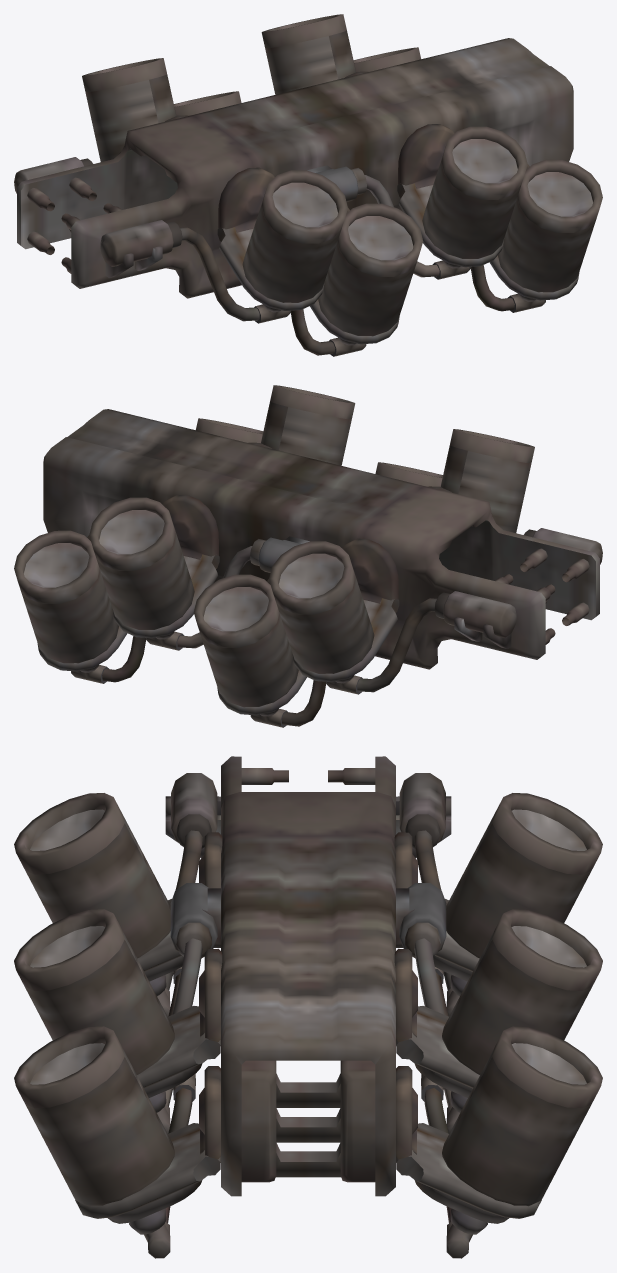
Rendered from HeavyWeapons_Vladof_Underbarrel_Mortar.obj.
3 renders of one model, top to bottom at view 1: azimuth 30°, elevation 25°; view 2: azimuth 150°, elevation 25°; view 3: azimuth 270°, elevation 25°, orthographic. The views are drawn at different scales.
Parts seen in each view (by area): view 1: Underbarrel_Mortar_base_main_SK_HW_VLA.221, Underbarrel_Mortar_launcher_7_base_top_SK_HW_VLA.256, Underbarrel_Mortar_launcher_5_base_top_SK_HW_VLA.258, Underbarrel_Mortar_launcher_8_base_top_SK_HW_VLA.255, Underbarrel_Mortar_launcher_6_base_top_SK_HW_VLA.257, Underbarrel_Mortar_launcher_4_base_top_SK_HW_VLA.253, Underbarrel_Mortar_launcher_2_base_top_SK_HW_VLA.249, Underbarrel_Mortar_launcher_5_mount_SK_HW_VLA.243, Underbarrel_Mortar_launcher_5_feed_source_SK_HW_VLA.220, Underbarrel_Mortar_launcher_7_mount_SK_HW_VLA.241, Underbarrel_Mortar_launcher_5_base_SK_HW_VLA.218, Underbarrel_Mortar_launcher_7_base_SK_HW_VLA.217 (+10 smaller); view 2: Underbarrel_Mortar_base_main_SK_HW_VLA.221, Underbarrel_Mortar_launcher_2_base_top_SK_HW_VLA.249, Underbarrel_Mortar_launcher_4_base_top_SK_HW_VLA.253, Underbarrel_Mortar_launcher_1_base_top_SK_HW_VLA.247, Underbarrel_Mortar_launcher_3_base_top_SK_HW_VLA.251, Underbarrel_Mortar_launcher_5_base_top_SK_HW_VLA.258, Underbarrel_Mortar_launcher_7_base_top_SK_HW_VLA.256, Underbarrel_Mortar_launcher_4_mount_SK_HW_VLA.236, Underbarrel_Mortar_launcher_4_feed_source_SK_HW_VLA.219, Underbarrel_Mortar_launcher_2_mount_SK_HW_VLA.231, Underbarrel_Mortar_launcher_4_base_SK_HW_VLA.214, Underbarrel_Mortar_launcher_2_base_SK_HW_VLA.213 (+10 smaller); view 3: Underbarrel_Mortar_base_main_SK_HW_VLA.221, Underbarrel_Mortar_launcher_1_base_top_SK_HW_VLA.247, Underbarrel_Mortar_launcher_8_base_top_SK_HW_VLA.255, Underbarrel_Mortar_launcher_2_base_top_SK_HW_VLA.249, Underbarrel_Mortar_launcher_7_base_top_SK_HW_VLA.256, Underbarrel_Mortar_launcher_4_base_top_SK_HW_VLA.253, Underbarrel_Mortar_launcher_5_base_top_SK_HW_VLA.258, Underbarrel_Mortar_base_inner_2_SK_HW_VLA.228, Underbarrel_Mortar_base_inner_1_SK_HW_VLA.239, Underbarrel_Mortar_launcher_1_base_SK_HW_VLA.212, Underbarrel_Mortar_launcher_8_base_SK_HW_VLA.216, Underbarrel_Mortar_launcher_2_feed_source_SK_HW_VLA.211 (+32 smaller).
Part boxes in pixels (x1,y1,x2,y2): Underbarrel_Mortar_base_main_SK_HW_VLA.221: (17, 38, 573, 298); Underbarrel_Mortar_launcher_7_base_top_SK_HW_VLA.256: (422, 126, 527, 258); Underbarrel_Mortar_launcher_5_base_top_SK_HW_VLA.258: (242, 170, 347, 302); Underbarrel_Mortar_launcher_8_base_top_SK_HW_VLA.255: (498, 159, 602, 292); Underbarrel_Mortar_launcher_6_base_top_SK_HW_VLA.257: (318, 203, 423, 336); Underbarrel_Mortar_launcher_4_base_top_SK_HW_VLA.253: (82, 58, 176, 161); Underbarrel_Mortar_launcher_2_base_top_SK_HW_VLA.249: (261, 14, 355, 94); Underbarrel_Mortar_launcher_5_mount_SK_HW_VLA.243: (218, 167, 274, 232); Underbarrel_Mortar_launcher_5_feed_source_SK_HW_VLA.220: (100, 220, 182, 266); Underbarrel_Mortar_launcher_7_mount_SK_HW_VLA.241: (398, 124, 454, 188); Underbarrel_Mortar_launcher_5_base_SK_HW_VLA.218: (217, 227, 324, 310); Underbarrel_Mortar_launcher_7_base_SK_HW_VLA.217: (397, 183, 504, 267); Underbarrel_Mortar_base_main_SK_HW_VLA.221: (43, 409, 599, 669); Underbarrel_Mortar_launcher_2_base_top_SK_HW_VLA.249: (89, 497, 194, 629); Underbarrel_Mortar_launcher_4_base_top_SK_HW_VLA.253: (269, 541, 374, 673); Underbarrel_Mortar_launcher_1_base_top_SK_HW_VLA.247: (14, 530, 118, 663); Underbarrel_Mortar_launcher_3_base_top_SK_HW_VLA.251: (193, 574, 298, 707); Underbarrel_Mortar_launcher_5_base_top_SK_HW_VLA.258: (440, 429, 534, 532); Underbarrel_Mortar_launcher_7_base_top_SK_HW_VLA.256: (261, 385, 355, 465); Underbarrel_Mortar_launcher_4_mount_SK_HW_VLA.236: (342, 538, 398, 603); Underbarrel_Mortar_launcher_4_feed_source_SK_HW_VLA.219: (434, 591, 516, 637); Underbarrel_Mortar_launcher_2_mount_SK_HW_VLA.231: (162, 495, 218, 559); Underbarrel_Mortar_launcher_4_base_SK_HW_VLA.214: (292, 598, 399, 681); Underbarrel_Mortar_launcher_2_base_SK_HW_VLA.213: (112, 554, 219, 638); Underbarrel_Mortar_base_main_SK_HW_VLA.221: (165, 756, 451, 1196); Underbarrel_Mortar_launcher_1_base_top_SK_HW_VLA.247: (442, 1026, 602, 1206); Underbarrel_Mortar_launcher_8_base_top_SK_HW_VLA.255: (14, 1026, 174, 1206); Underbarrel_Mortar_launcher_2_base_top_SK_HW_VLA.249: (442, 909, 602, 1074); Underbarrel_Mortar_launcher_7_base_top_SK_HW_VLA.256: (14, 909, 174, 1074); Underbarrel_Mortar_launcher_4_base_top_SK_HW_VLA.253: (446, 793, 602, 958); Underbarrel_Mortar_launcher_5_base_top_SK_HW_VLA.258: (14, 793, 170, 958); Underbarrel_Mortar_base_inner_2_SK_HW_VLA.228: (340, 1060, 375, 1182); Underbarrel_Mortar_base_inner_1_SK_HW_VLA.239: (241, 1060, 276, 1182); Underbarrel_Mortar_launcher_1_base_SK_HW_VLA.212: (396, 1123, 541, 1218); Underbarrel_Mortar_launcher_8_base_SK_HW_VLA.216: (75, 1123, 220, 1218); Underbarrel_Mortar_launcher_2_feed_source_SK_HW_VLA.211: (396, 883, 446, 958).
Bounding box in the file's own units: 42.69 × 17.32 × 32.91.
